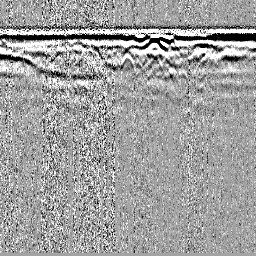cavity: (119, 50, 136, 72)
